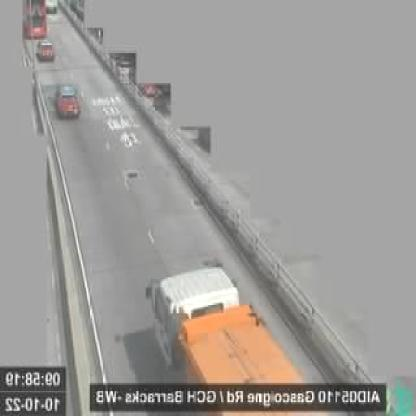Bus: (22, 0, 46, 39)
Car: (53, 81, 82, 118), (35, 40, 54, 60)
Truck: (148, 261, 322, 411)
